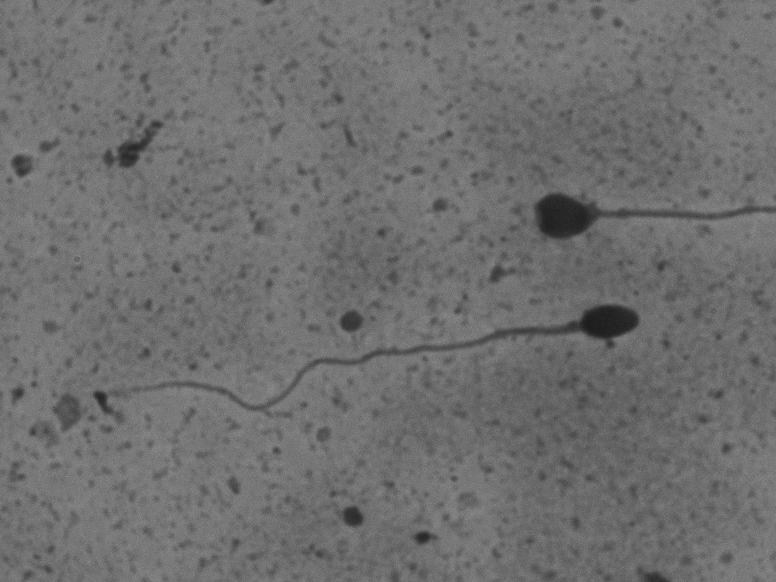Abnormal: (504, 134, 750, 266)
Normal: (98, 291, 666, 442)
